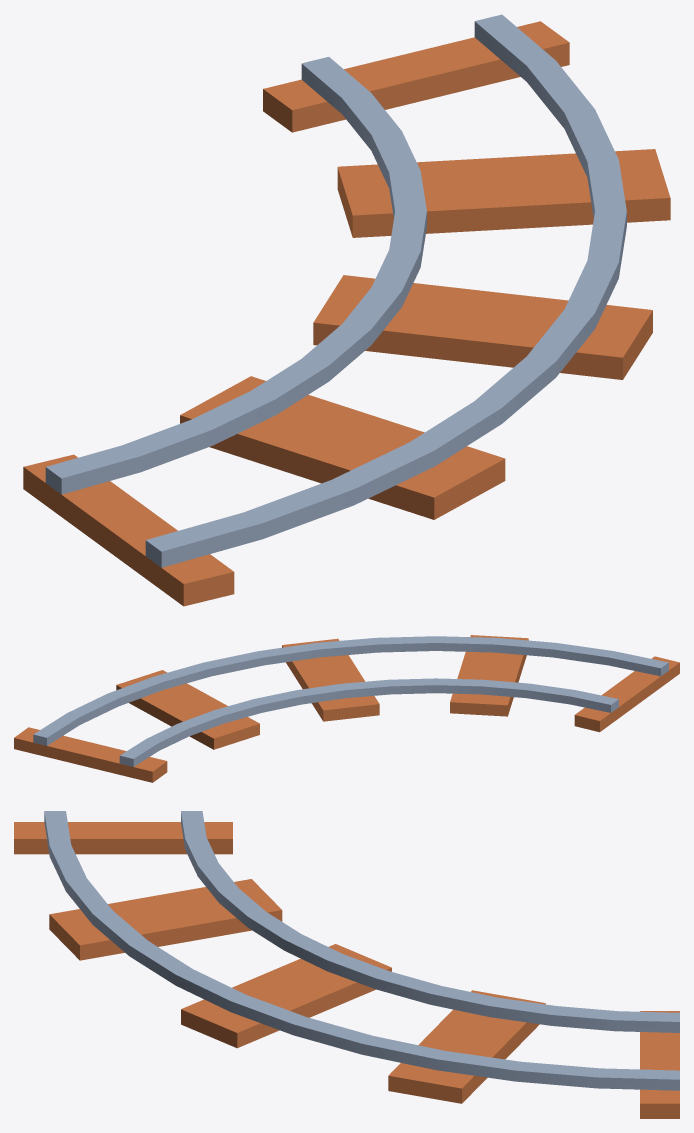
Rendered from trackCornerLarge.fbx.
3 views of the same model, one above another, from view 1: azimuth 30°, elevation 25°; view 2: azimuth 150°, elevation 25°; view 3: azimuth 270°, elevation 25° (orthographic). The views are drawn at different scales.
Parts seen in each view (by area): view 1: trackCornerLarge; view 2: trackCornerLarge; view 3: trackCornerLarge.
Boxes of the visible parts, <box> form: trackCornerLarge: <box>23,14,670,606</box>; trackCornerLarge: <box>14,635,679,782</box>; trackCornerLarge: <box>14,811,679,1118</box>.
Bounding box in the file's own units: 5.53 × 0.241 × 5.53.
